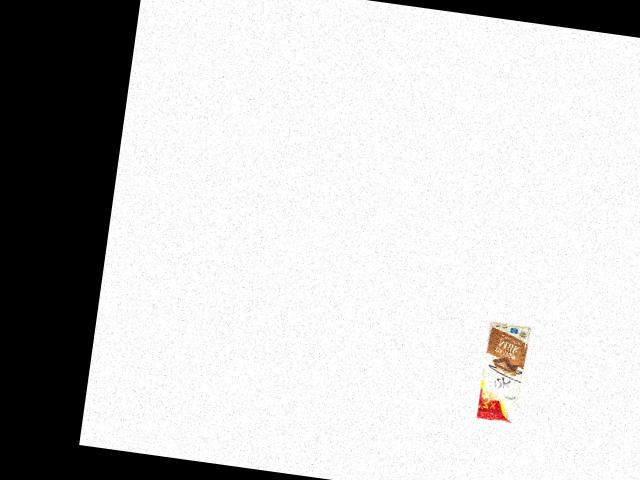chocolate: (473, 323, 532, 426)
